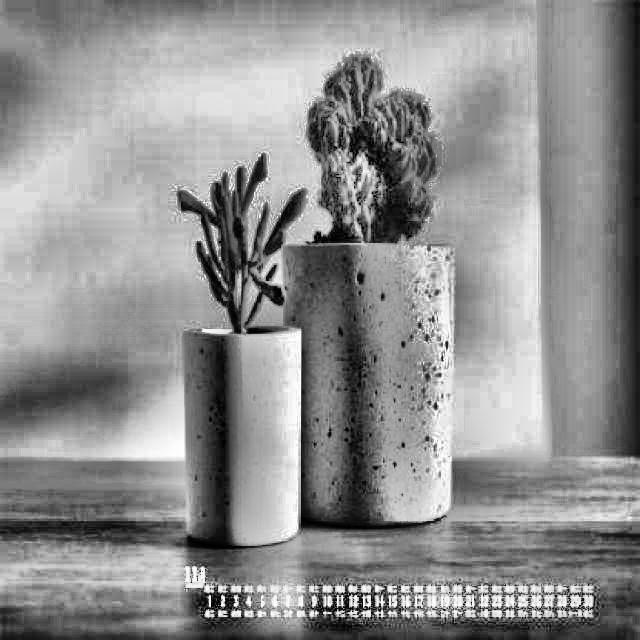plants: (285, 72, 453, 514), (184, 166, 298, 548)
